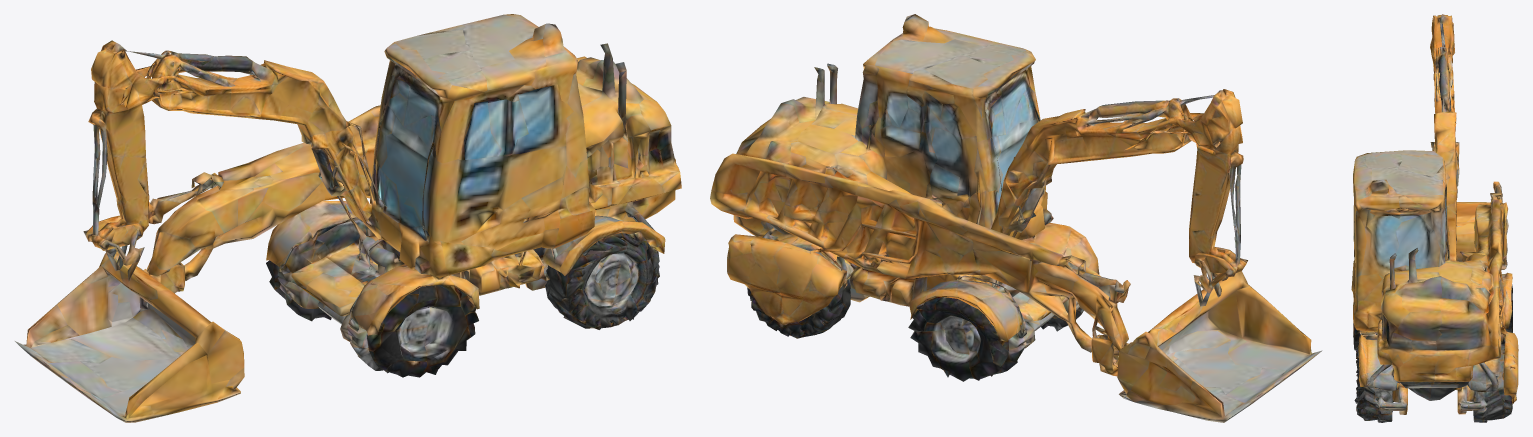
3 renders of one model, left to right at view 1: azimuth 30°, elevation 25°; view 2: azimuth 150°, elevation 25°; view 3: azimuth 270°, elevation 25°, orthographic. The views are drawn at different scales.
Parts seen in each view (by area): view 1: Mesh; view 2: Mesh; view 3: Mesh.
Part boxes in pixels (left/top/right/bottom): Mesh: left=15, top=14, right=681, bottom=422; Mesh: left=710, top=14, right=1322, bottom=422; Mesh: left=1351, top=14, right=1518, bottom=422.
Size of the model in its own units: 1.9 by 1.09 by 0.6584.
Materials: 1 (1 with a texture image).
